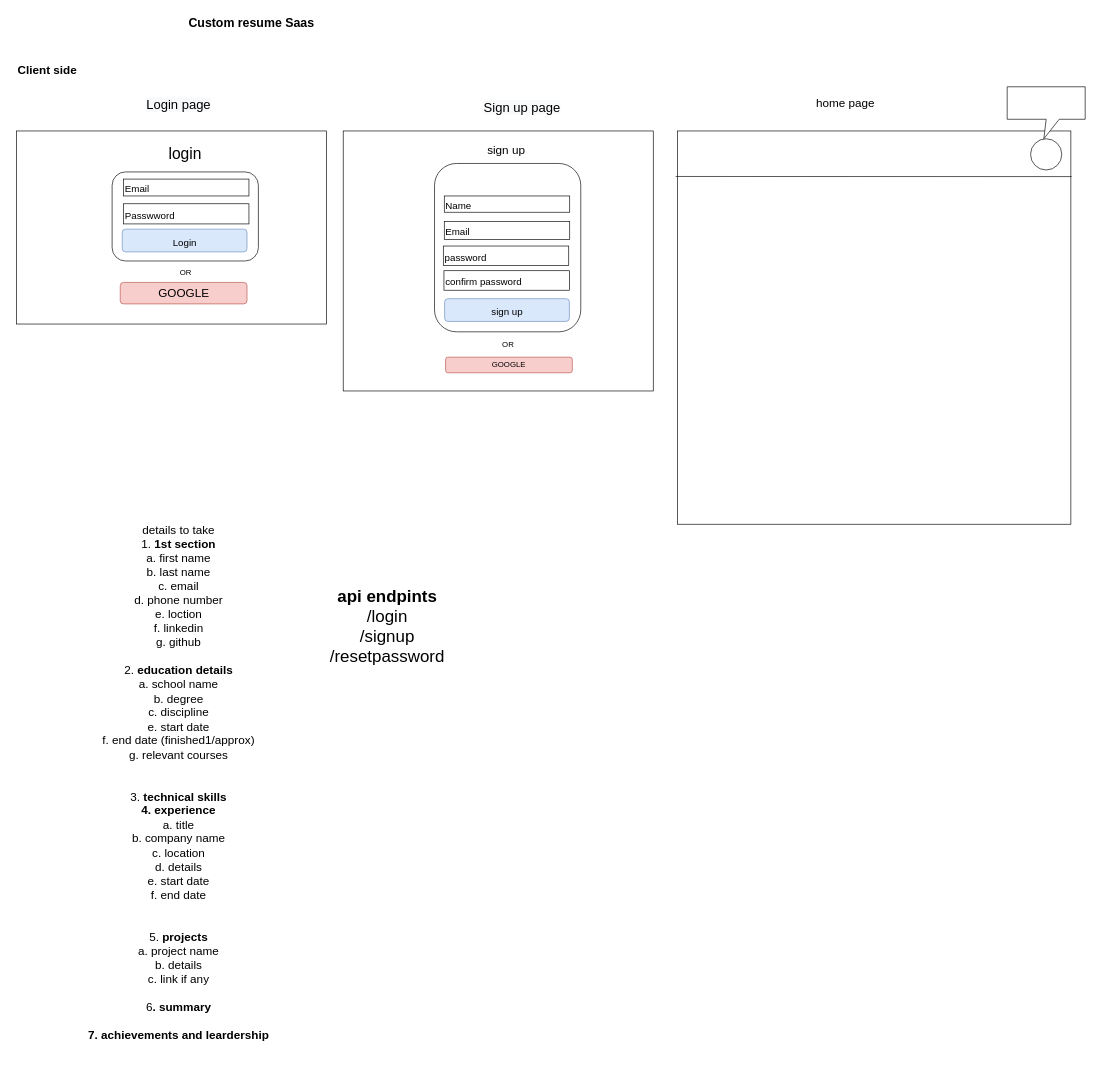
Image size: 1097x1086. Some labels were removed from this diagram. The shapes that lost their labels are listed below. From the top down, each one's box as (x1, y1, x2, y2) in pixels, then its label:
(1007, 86, 1085, 139): logout edit
(677, 130, 1071, 524): 1. take all the details. 2. select company 3. download resume
